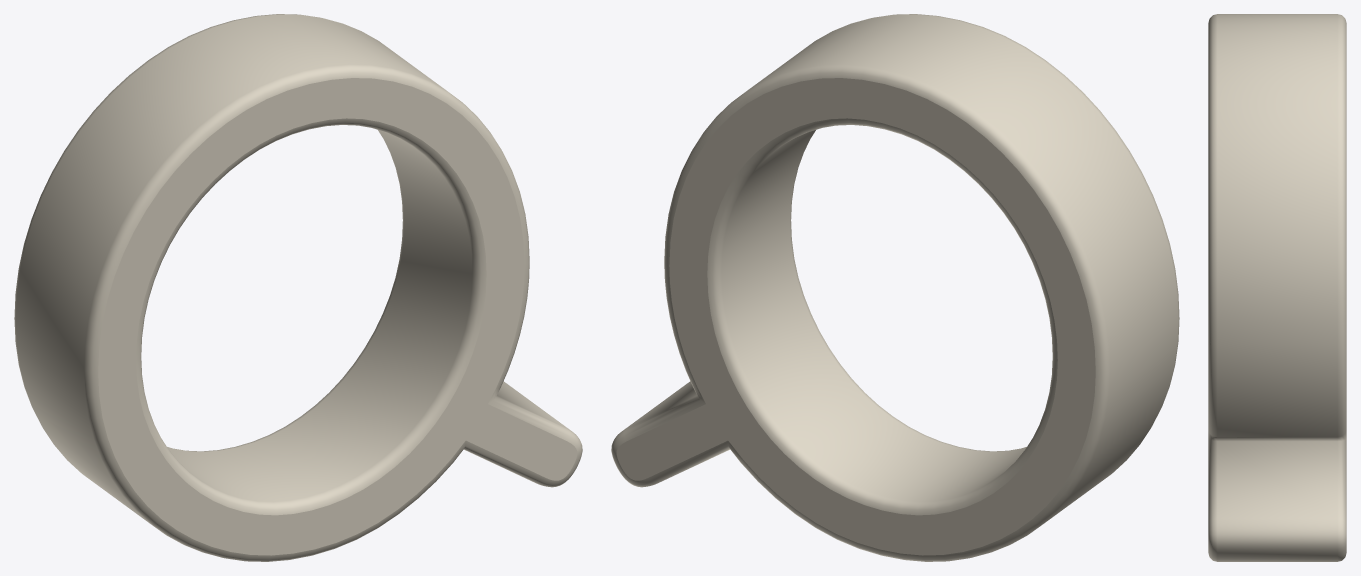
File: letter_q.glb
3 renders of one model, left to right at view 1: azimuth 30°, elevation 25°; view 2: azimuth 150°, elevation 25°; view 3: azimuth 270°, elevation 25°, orthographic. The views are drawn at different scales.
Visible parts, largest first — view 1: color_body; view 2: color_body; view 3: color_body.
Boxes of the visible parts, bbox=[...] form: color_body: bbox=[14, 14, 582, 561]; color_body: bbox=[611, 14, 1179, 561]; color_body: bbox=[1208, 14, 1346, 561].
Size of the model in its own units: 0.8841 by 0.825 by 0.242.
